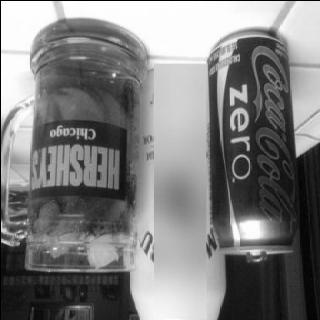alumunium_can: (206, 24, 300, 262)
objects: (0, 17, 146, 273)
